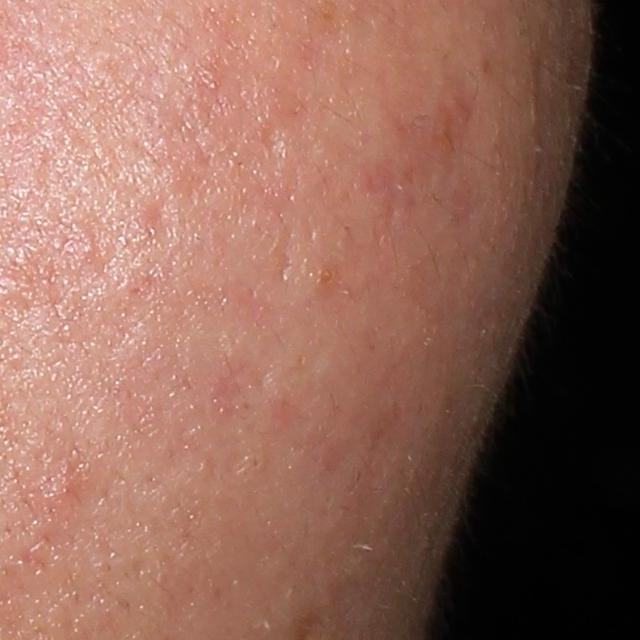comedo: (313, 261, 341, 292)
